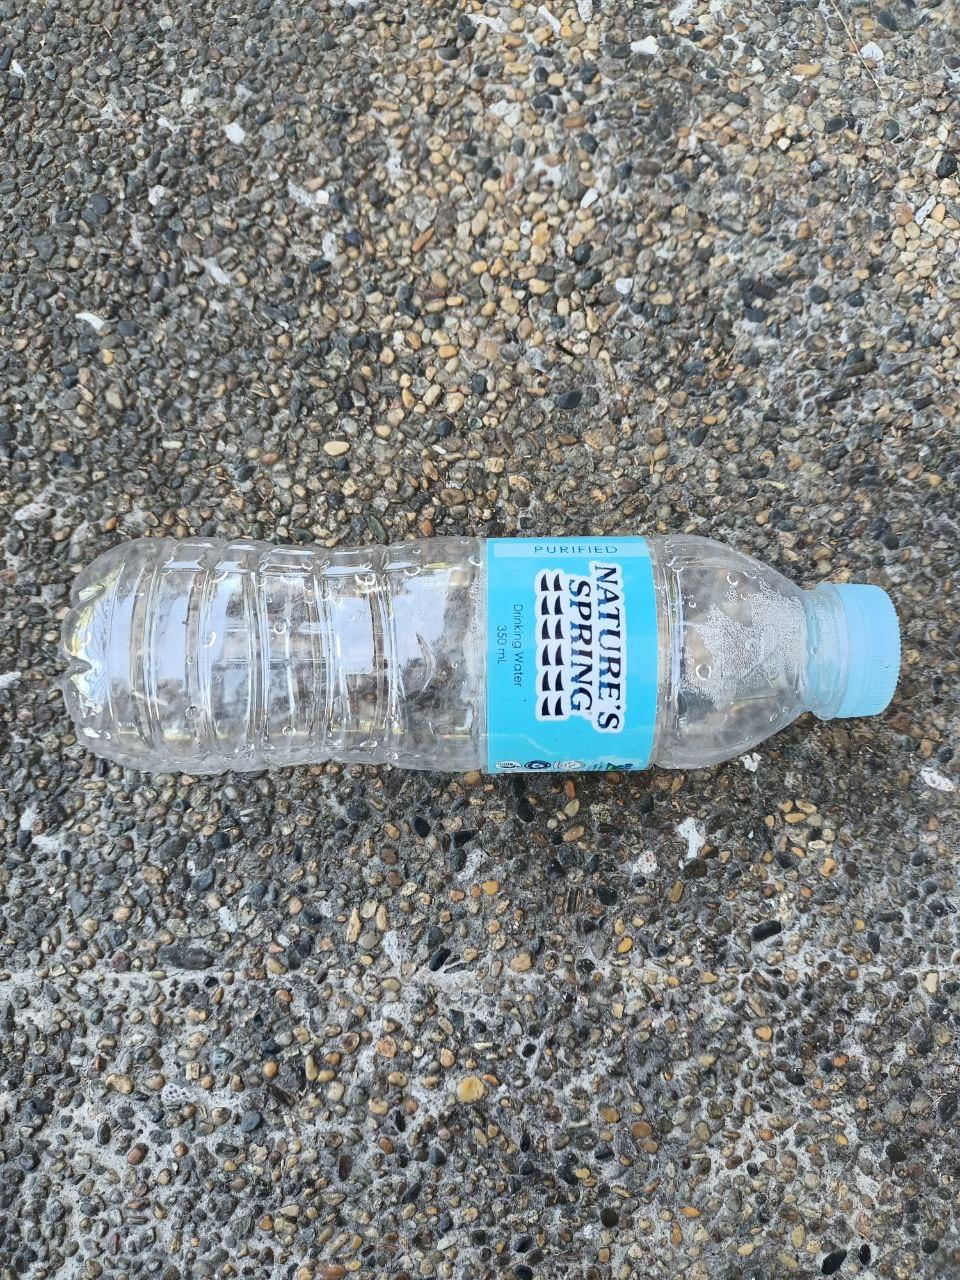plastic: (7, 490, 916, 850)
